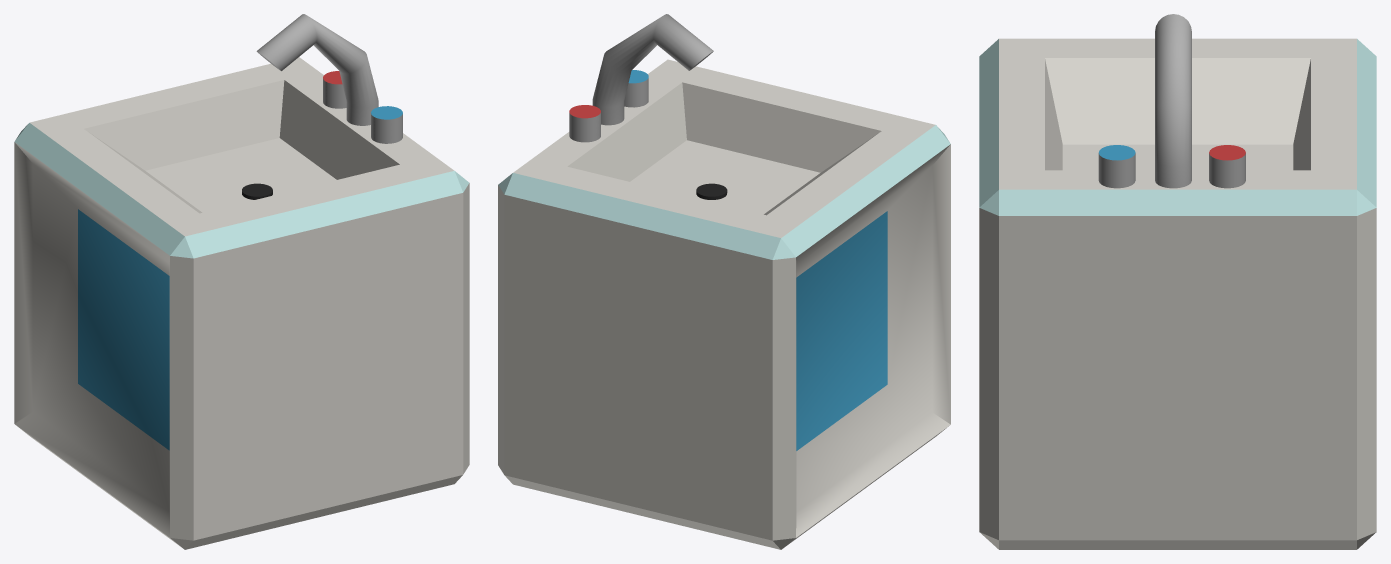
File: SINK.fbx
The picture shows the model from 3 angles, left to right: view 1: azimuth 30°, elevation 25°; view 2: azimuth 150°, elevation 25°; view 3: azimuth 270°, elevation 25°; orthographic projection. The views are drawn at different scales.
Visible parts, largest first — view 1: SINK; view 2: SINK; view 3: SINK.
Boxes of the visible parts, x1=… form: SINK: x1=14, y1=14, x2=469, y2=549; SINK: x1=498, y1=14, x2=950, y2=549; SINK: x1=979, y1=14, x2=1376, y2=549.
Size of the model in its own units: 7.61 by 10.47 by 7.61.
